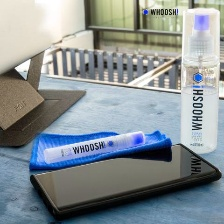cleaning_solution: (178, 4, 221, 156), (41, 127, 148, 166)
phone: (25, 137, 224, 224)
